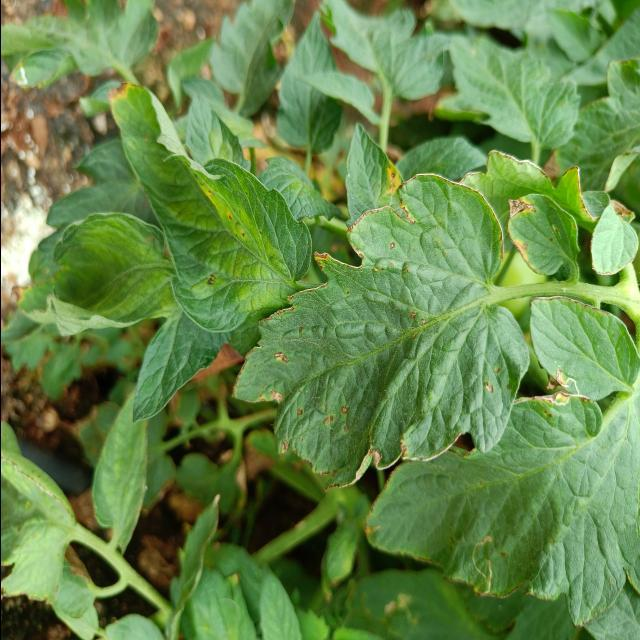Tomato mosaic virus leaf: (229, 234, 497, 494), (504, 189, 579, 279), (342, 112, 404, 219)
